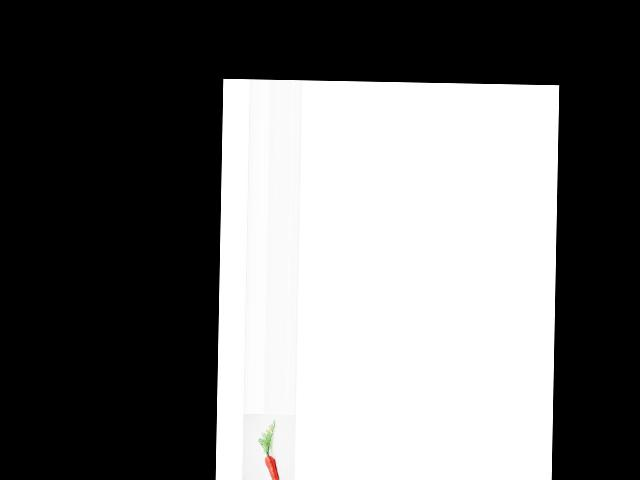carrot: (263, 453, 284, 480)
